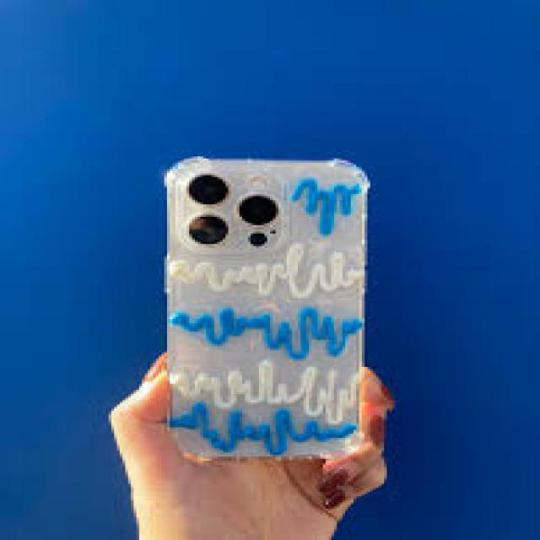phone: (144, 151, 375, 473)
